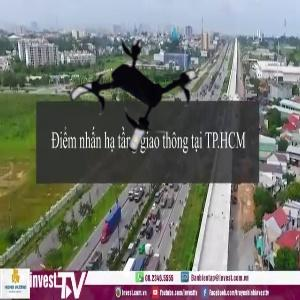drone: (69, 33, 200, 164)
